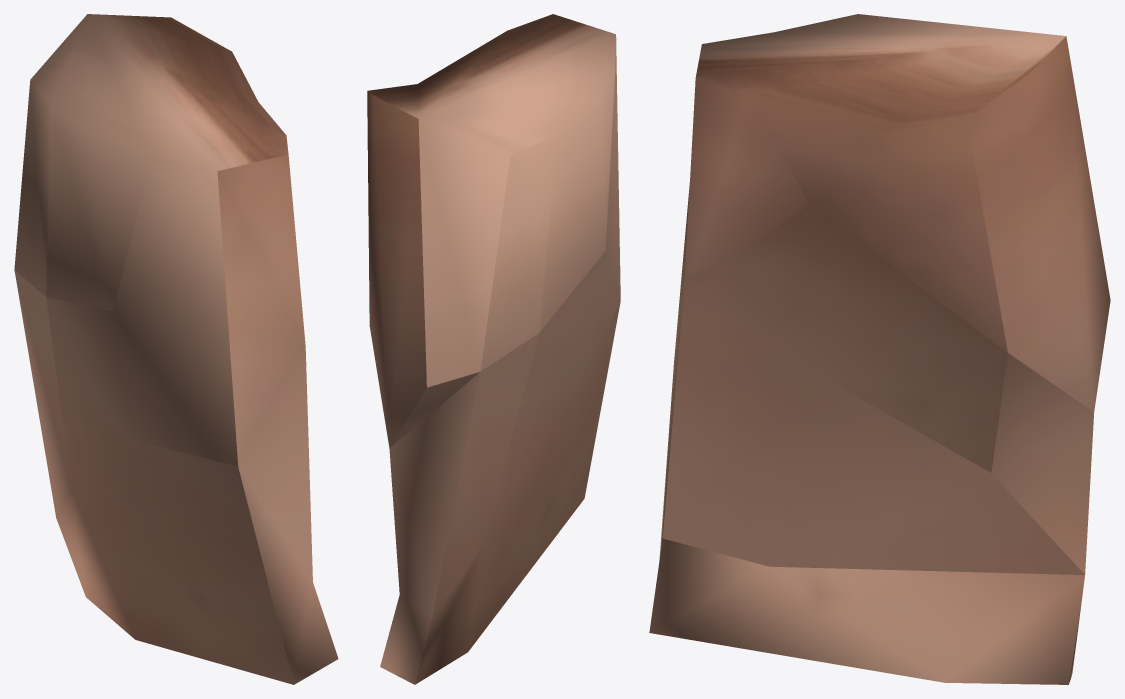
The model's file is hand2.fbx.
3 renders of one model, left to right at view 1: azimuth 30°, elevation 25°; view 2: azimuth 150°, elevation 25°; view 3: azimuth 270°, elevation 25°, orthographic. The views are drawn at different scales.
Visible parts, largest first — view 1: Arm1.001; view 2: Arm1.001; view 3: Arm1.001.
Part boxes in pixels (x1=…): Arm1.001: x1=14, y1=14, x2=338, y2=684; Arm1.001: x1=367, y1=14, x2=620, y2=684; Arm1.001: x1=649, y1=14, x2=1110, y2=684.
Size of the model in its own units: 3.84 by 11.28 by 7.35.
